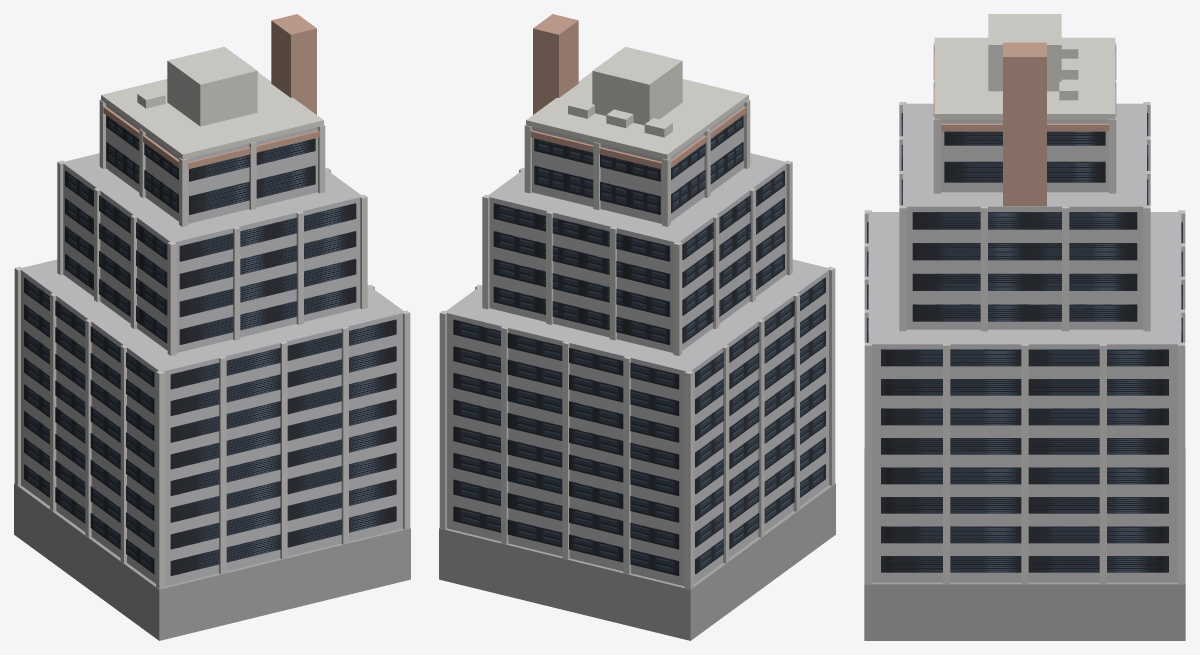
Rendered from skyline-tower-setback-tank.glb.
The picture shows the model from 3 angles, left to right: view 1: azimuth 30°, elevation 25°; view 2: azimuth 150°, elevation 25°; view 3: azimuth 270°, elevation 25°; orthographic projection. The views are drawn at different scales.
Visible parts, largest first — view 1: windows, body-1, pilasters, podium, body-2, parapet, roof-detail, body-3, core, crown-band; view 2: windows, body-1, pilasters, podium, body-2, parapet, roof-detail, body-3, core, crown-band; view 3: windows, body-1, body-2, podium, pilasters, parapet, core, roof-detail, body-3, crown-band.
Boxes of the visible parts, x1,y1,x2,y2 form: windows: (24, 115, 396, 575); body-1: (19, 259, 405, 586); pilasters: (14, 99, 410, 589); podium: (14, 483, 410, 640); body-2: (62, 153, 362, 352); parapet: (101, 72, 323, 159); roof-detail: (137, 46, 257, 126); body-3: (106, 104, 317, 223); core: (271, 14, 316, 114); crown-band: (103, 106, 319, 169); windows: (453, 115, 825, 575); body-1: (444, 259, 830, 586); pilasters: (439, 99, 835, 589); podium: (439, 483, 835, 640); body-2: (487, 153, 787, 352); parapet: (526, 72, 748, 159); roof-detail: (568, 46, 682, 137); body-3: (532, 104, 743, 223); core: (533, 14, 578, 114); crown-band: (530, 106, 746, 169); windows: (867, 113, 1182, 572); body-1: (868, 212, 1181, 582); body-2: (903, 103, 1146, 329); podium: (864, 448, 1185, 640); pilasters: (864, 42, 1185, 583); parapet: (934, 37, 1115, 119); core: (1003, 42, 1046, 206); roof-detail: (988, 14, 1078, 100); body-3: (941, 119, 1108, 192); crown-band: (934, 51, 1115, 131).
Size of the model in its own units: 30.8 by 60 by 30.8.
6 materials, 1 textured.
